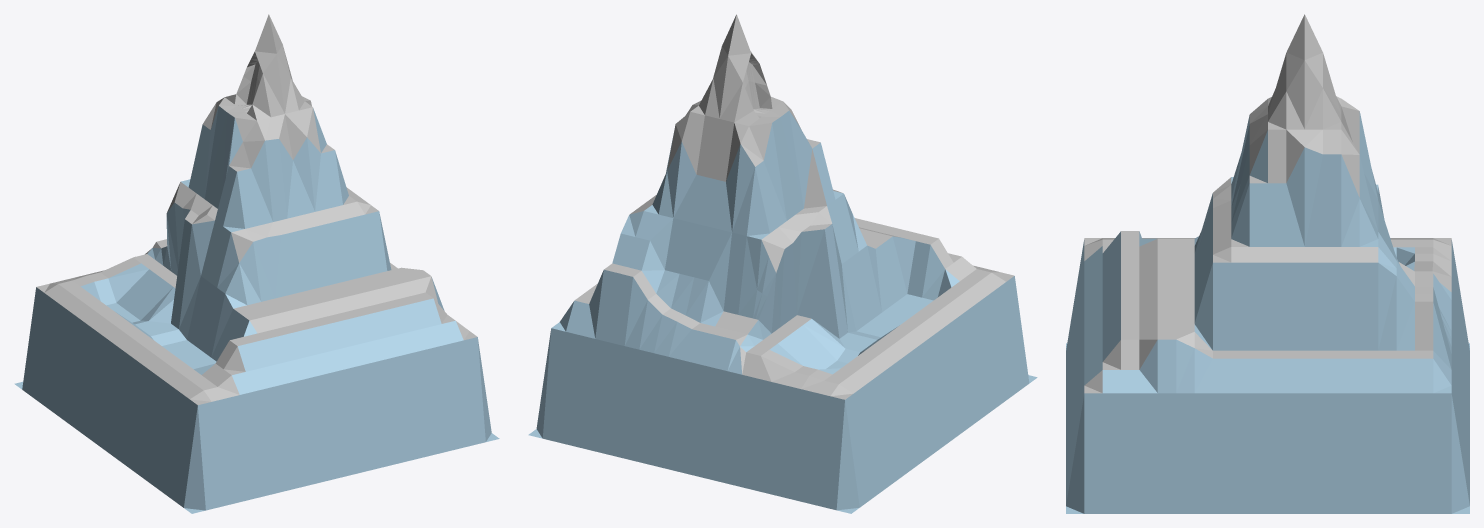
The model's file is main_mountain.dae.
The picture shows the model from 3 angles, left to right: view 1: azimuth 30°, elevation 25°; view 2: azimuth 150°, elevation 25°; view 3: azimuth 270°, elevation 25°; orthographic projection. The views are drawn at different scales.
Visible parts, largest first — view 1: Plane; view 2: Plane; view 3: Plane.
Boxes of the visible parts, left/top/right/bottom form: Plane: left=14, top=14, right=499, bottom=513; Plane: left=528, top=14, right=1037, bottom=513; Plane: left=1066, top=14, right=1469, bottom=513.
Size of what is drawn, in the model's own units: 2 by 2 by 2.35.
